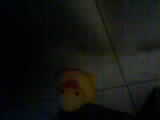duck: (42, 61, 97, 110)
